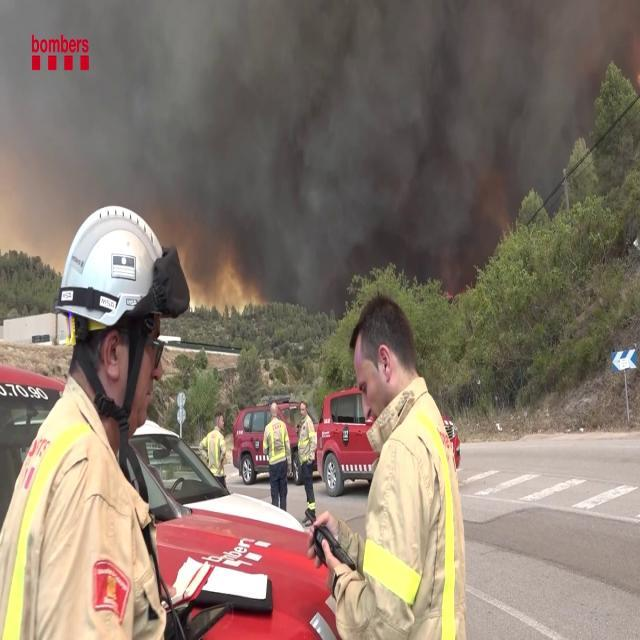Fire: (184, 244, 264, 322)
Smoke: (6, 0, 640, 274)
